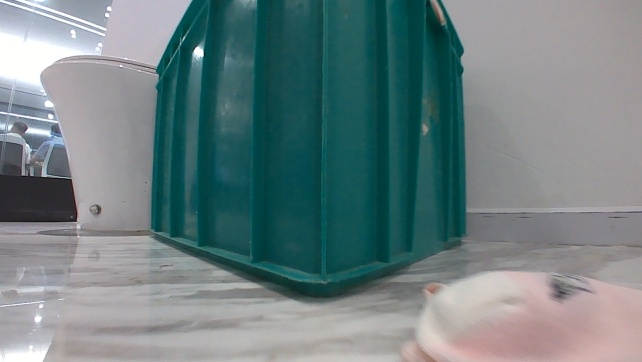socks: (396, 265, 640, 360)
toilet: (38, 49, 162, 234)
